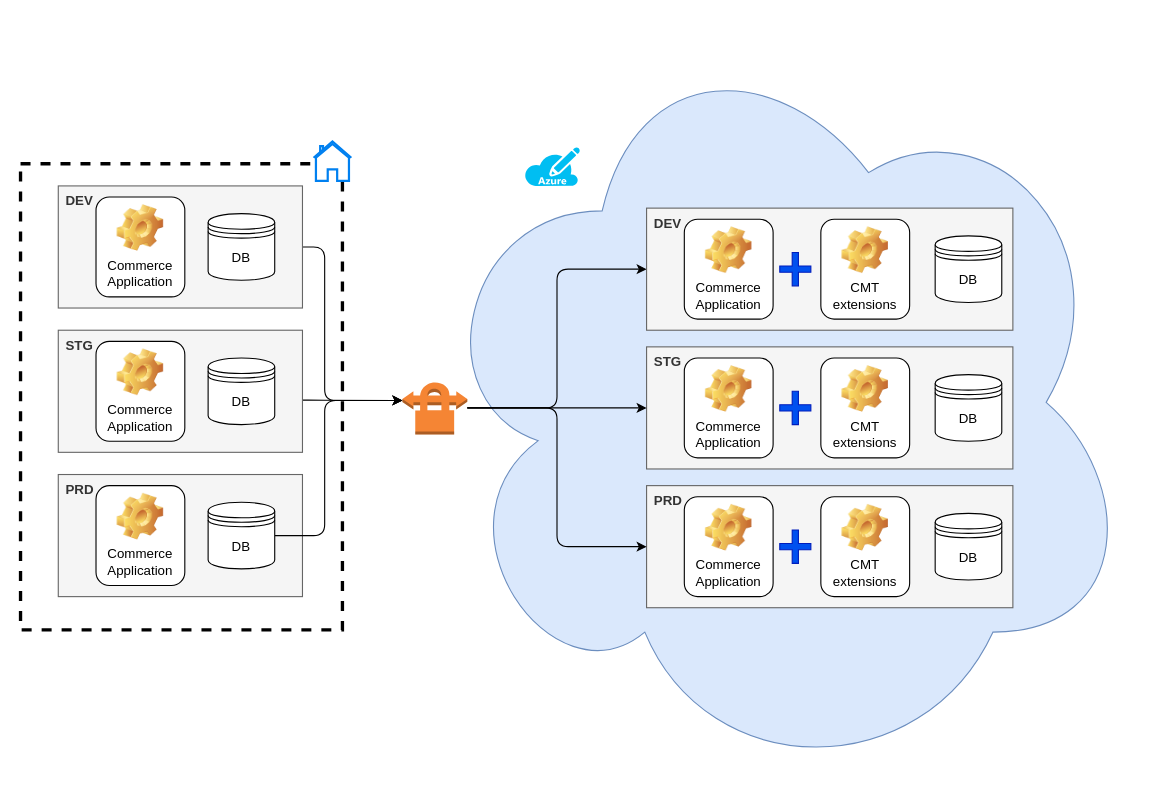
Some shapes in this 1154 by 805 pixel diagram are drawn without their labels. Here are the shapes that lost their labels. From the top down, the centre of each, then its label:
pixel 332 160: On Premise
pixel 551 166: Azure Subscription
pixel 434 407: VPN
